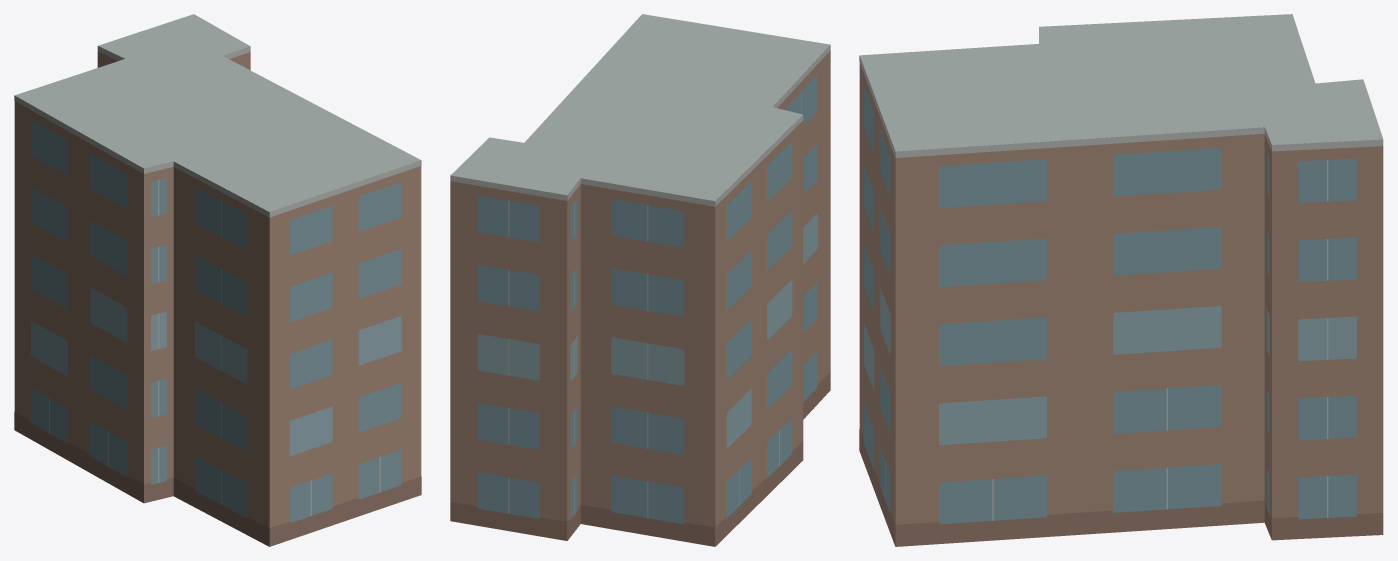
The model's file is survey-upis-33018029.glb.
The picture shows the model from 3 angles, left to right: view 1: azimuth 30°, elevation 25°; view 2: azimuth 150°, elevation 25°; view 3: azimuth 270°, elevation 25°; orthographic projection. The views are drawn at different scales.
Visible parts, largest first — view 1: survey-upis-33018029.tmp; view 2: survey-upis-33018029.tmp; view 3: survey-upis-33018029.tmp.
Part boxes in pixels (<box>): survey-upis-33018029.tmp: <box>14,14,421,546</box>; survey-upis-33018029.tmp: <box>450,14,830,546</box>; survey-upis-33018029.tmp: <box>859,14,1383,546</box>.
Size of the model in its own units: 11.1 by 14.85 by 17.85.
